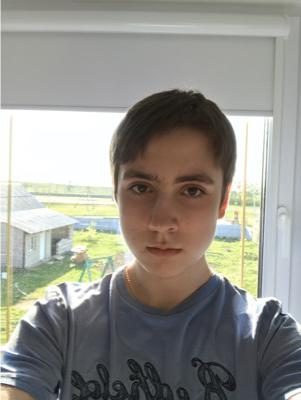without_mask: (117, 163, 220, 279)
